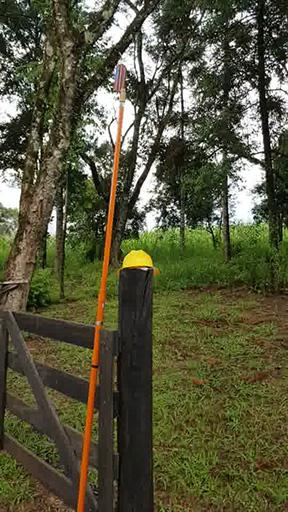Detector_Tensao_Contato: (110, 52, 128, 94)
Vara_Manobra: (77, 91, 127, 512)
